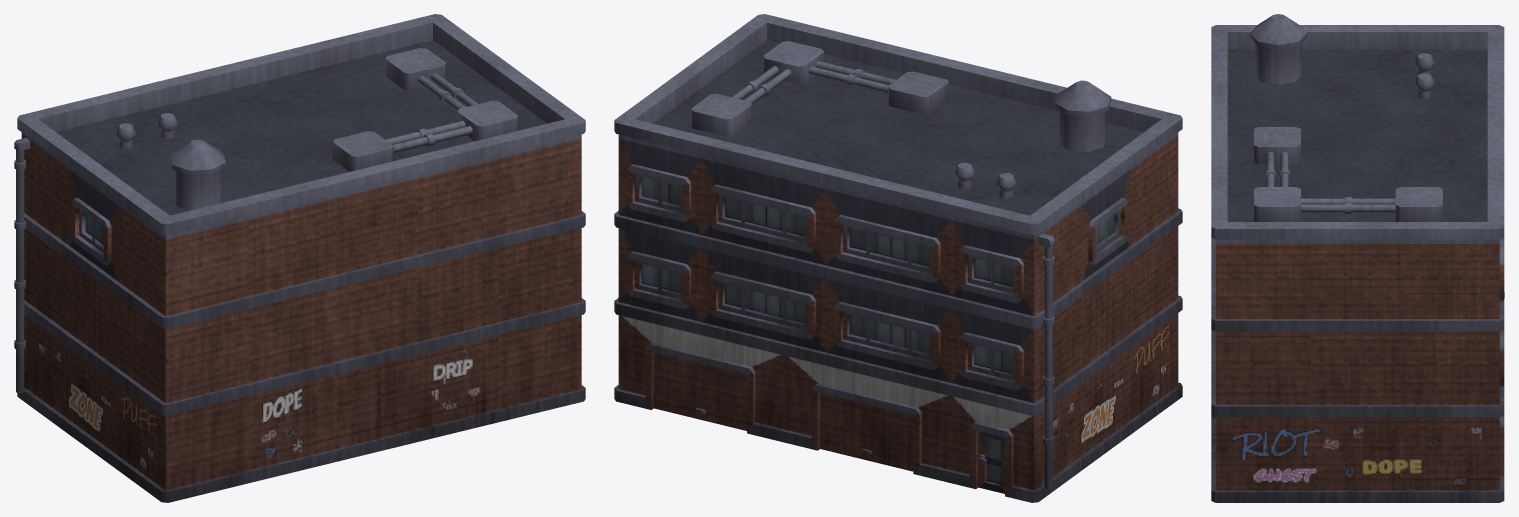
File: building-a-brown-scuffed.glb
3 renders of one model, left to right at view 1: azimuth 30°, elevation 25°; view 2: azimuth 150°, elevation 25°; view 3: azimuth 270°, elevation 25°, orthographic.
Visible parts, largest first — view 1: building-a; view 2: building-a; view 3: building-a.
Part boxes in pixels (x1,y1,x2,y2): building-a: (14,14,585,502); building-a: (614,14,1182,502); building-a: (1211,14,1504,502).
Size of the model in its own units: 2.08 by 1.47 by 1.24.
Materials: 1 (1 with a texture image).
